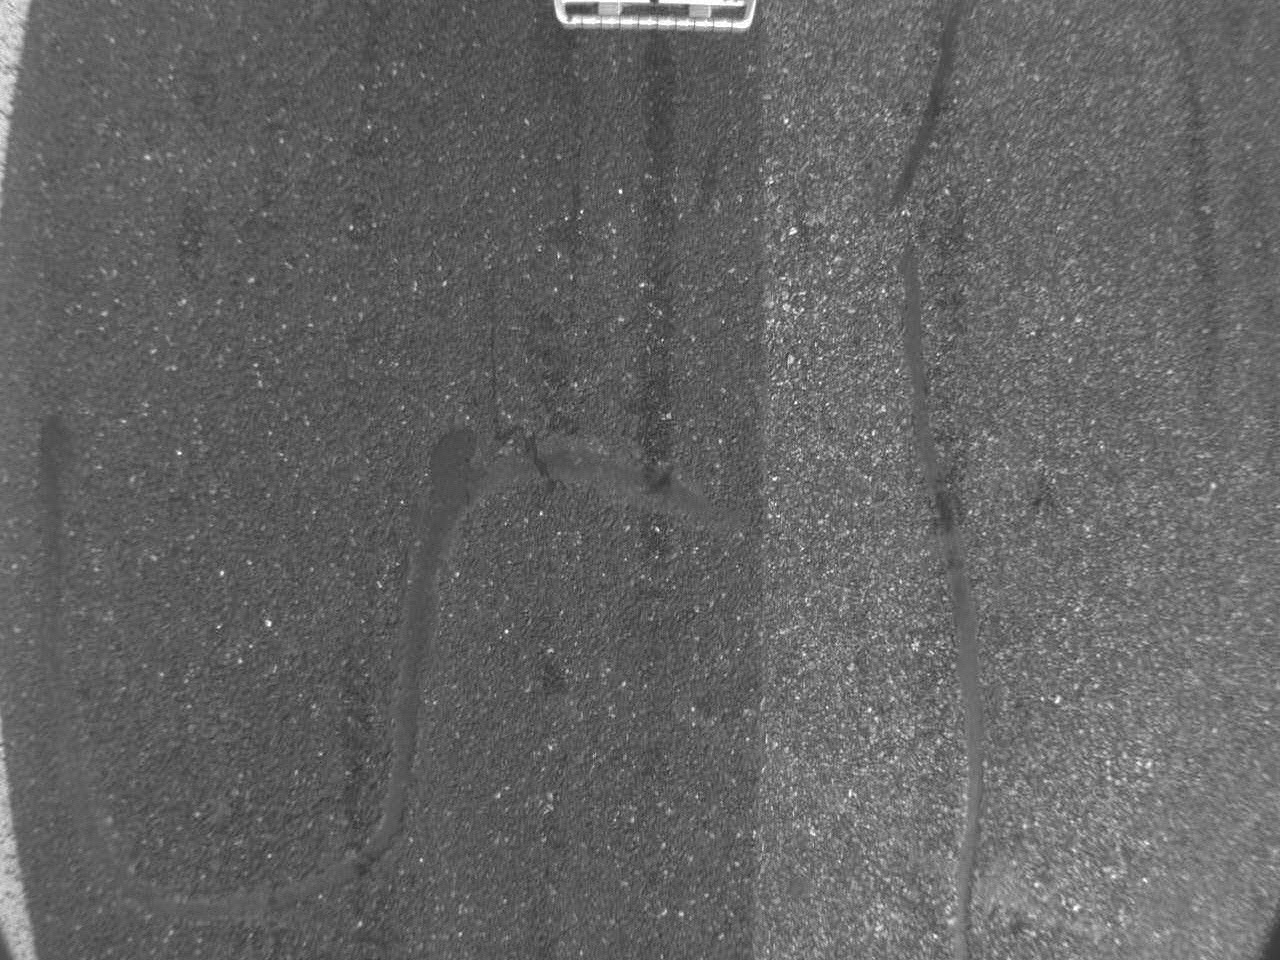sealed: (886, 232, 984, 952), (878, 6, 962, 216)
